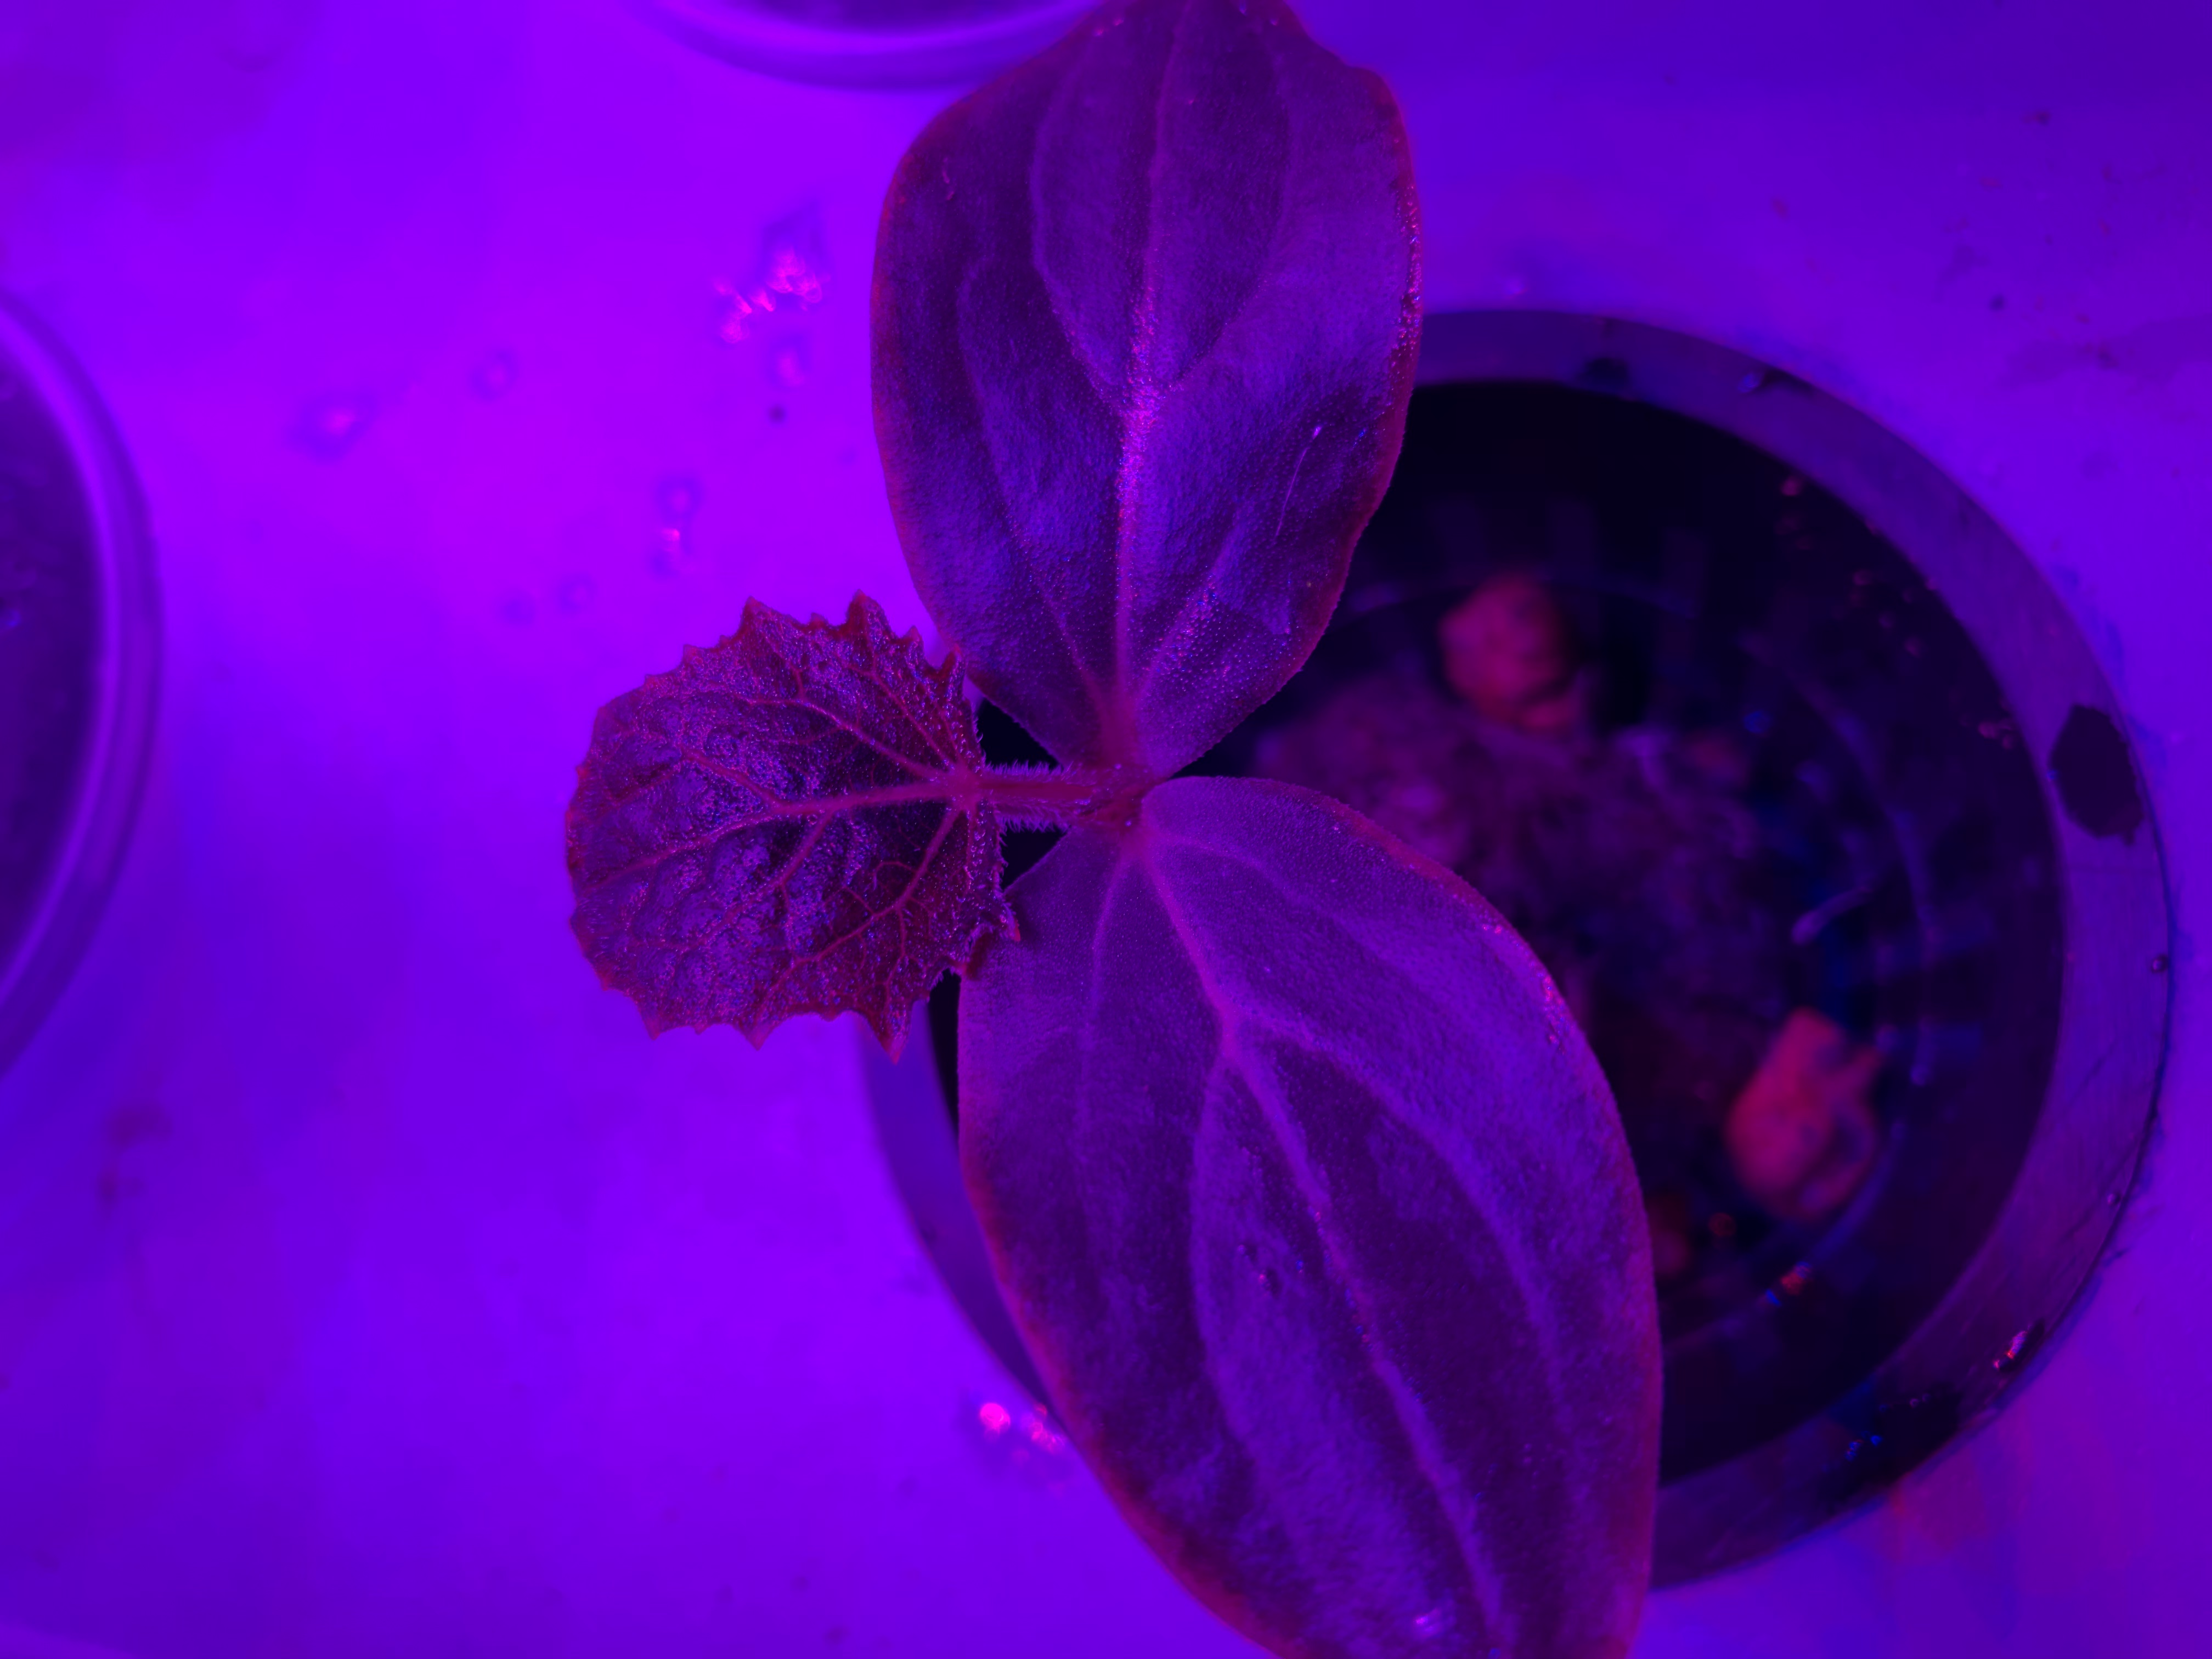lil_plant: (552, 21, 1658, 1643), (897, 286, 2144, 1574)
